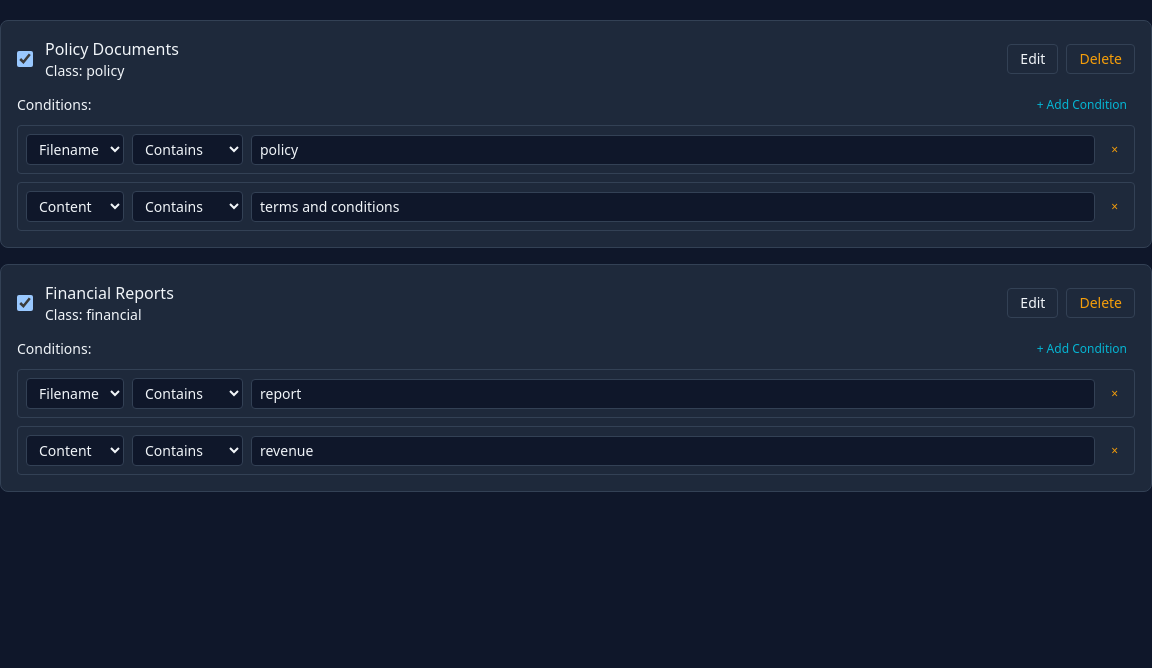
Test case: RulesBuilder › can cancel edit rule form
Open edit form
Click the button "Edit" in the row of "Policy Documents".
click(1033, 59)  # box [1007, 44, 1058, 74]
(page scrolled)
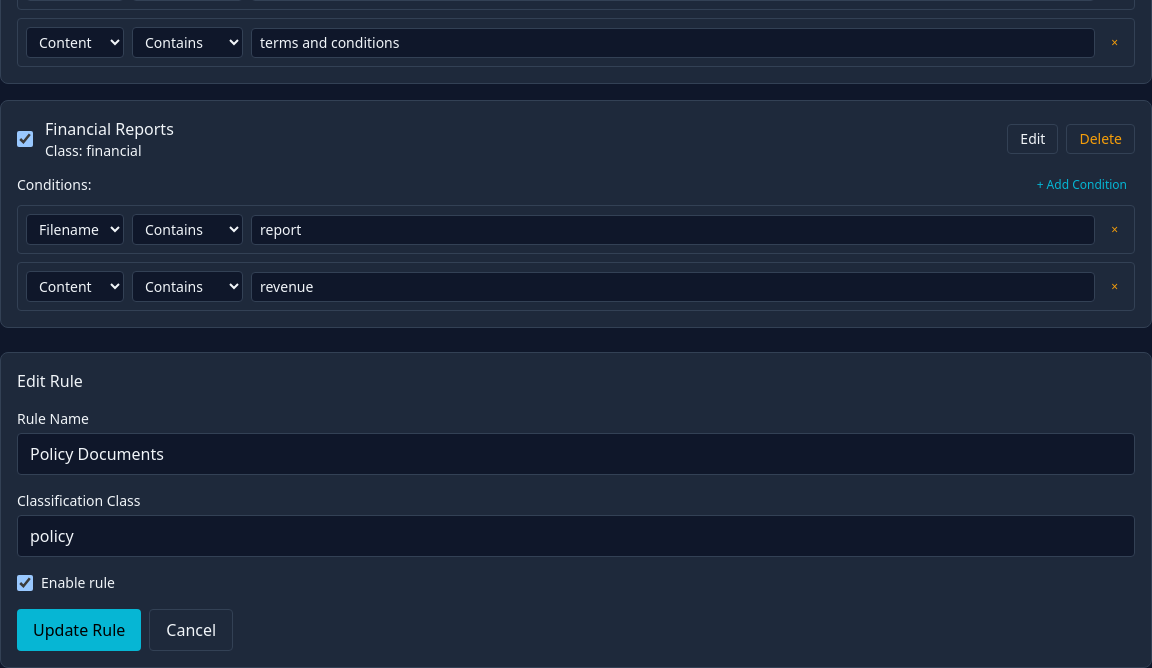
Expected: the heading "Edit Rule" is shown, [17, 370, 83, 392]
Cancel form
Click the button "Cancel".
click(191, 630)  # box [149, 609, 233, 651]
(page scrolled)
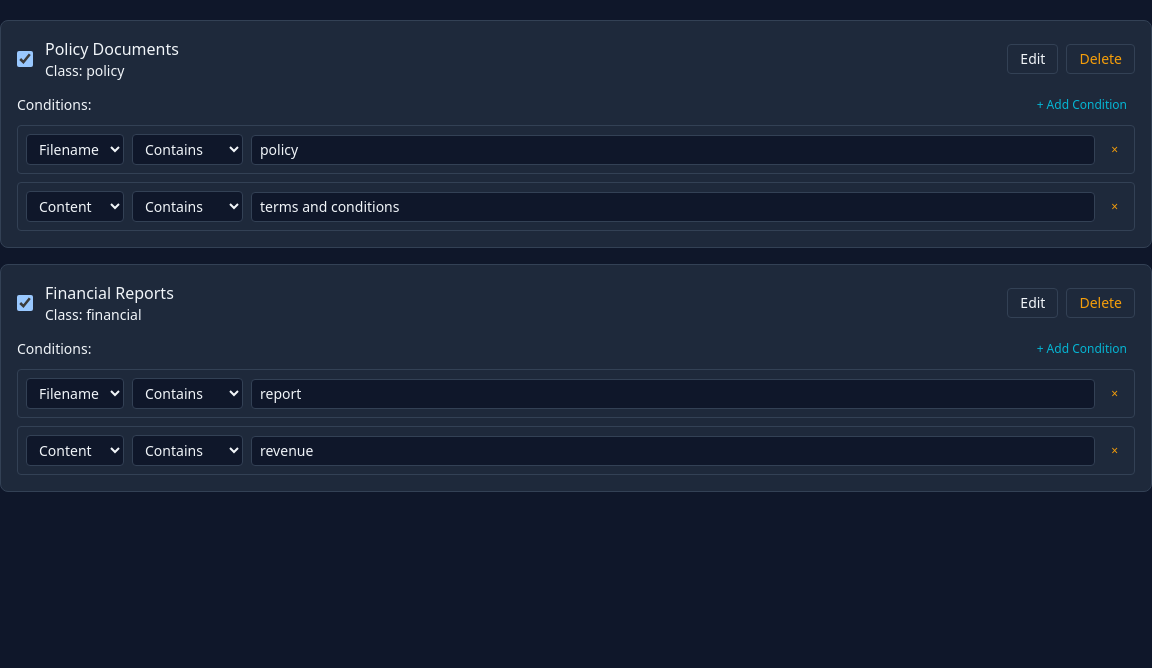
Expected: the heading "Edit Rule" is gone
